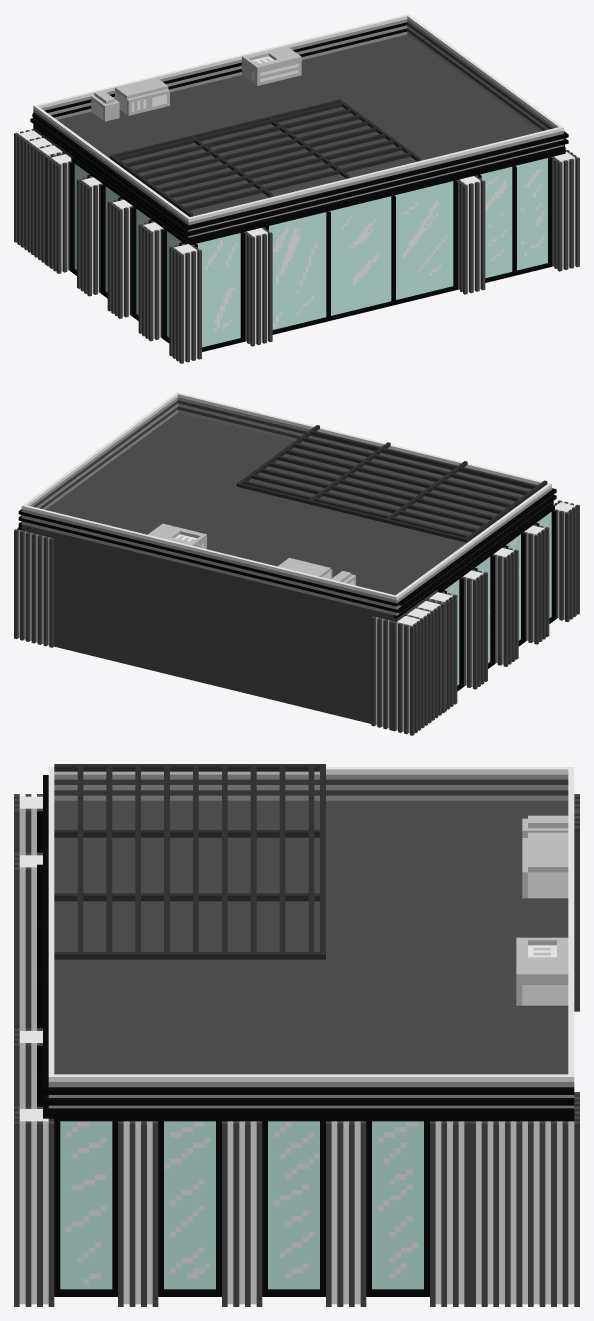
Rendered from MainBuilding_Up.obj.
3 views of the same model, one above another, from view 1: azimuth 30°, elevation 25°; view 2: azimuth 150°, elevation 25°; view 3: azimuth 270°, elevation 25° (orthographic). The views are drawn at different scales.
Bounding box in the file's own units: 13.5 × 4.4 × 9.8.
1 material, 1 textured.
